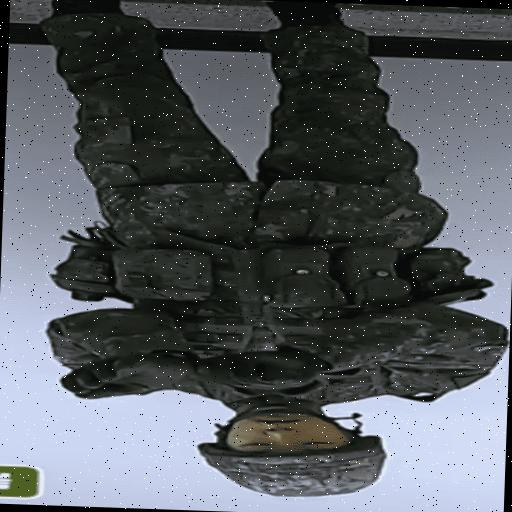korea army: (20, 0, 512, 504)
